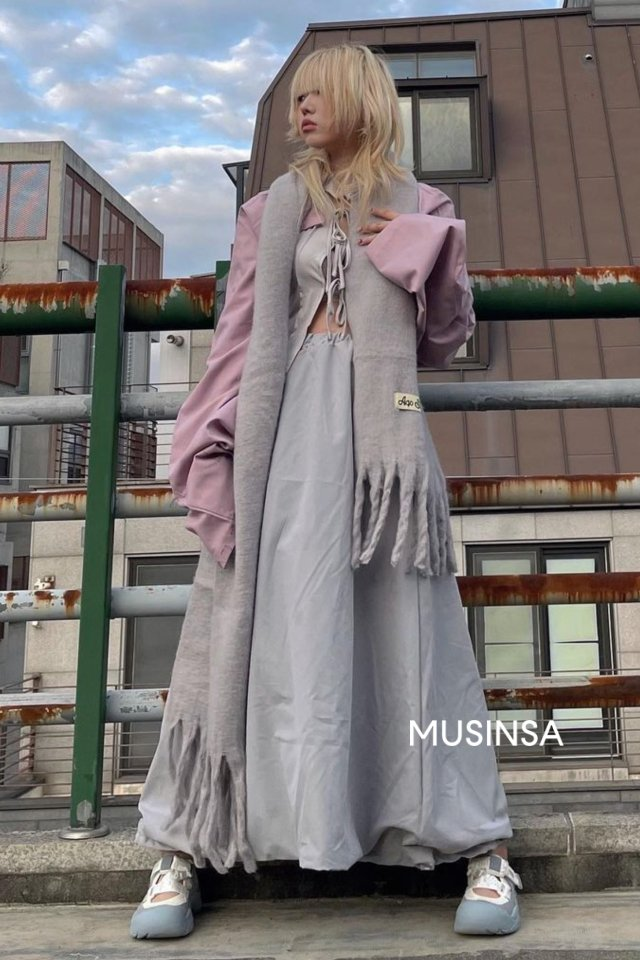Muffler: (247, 164, 458, 580)
Outer: (172, 182, 479, 371)
Shoes: (108, 851, 524, 943)
Skirt: (136, 329, 522, 872)
